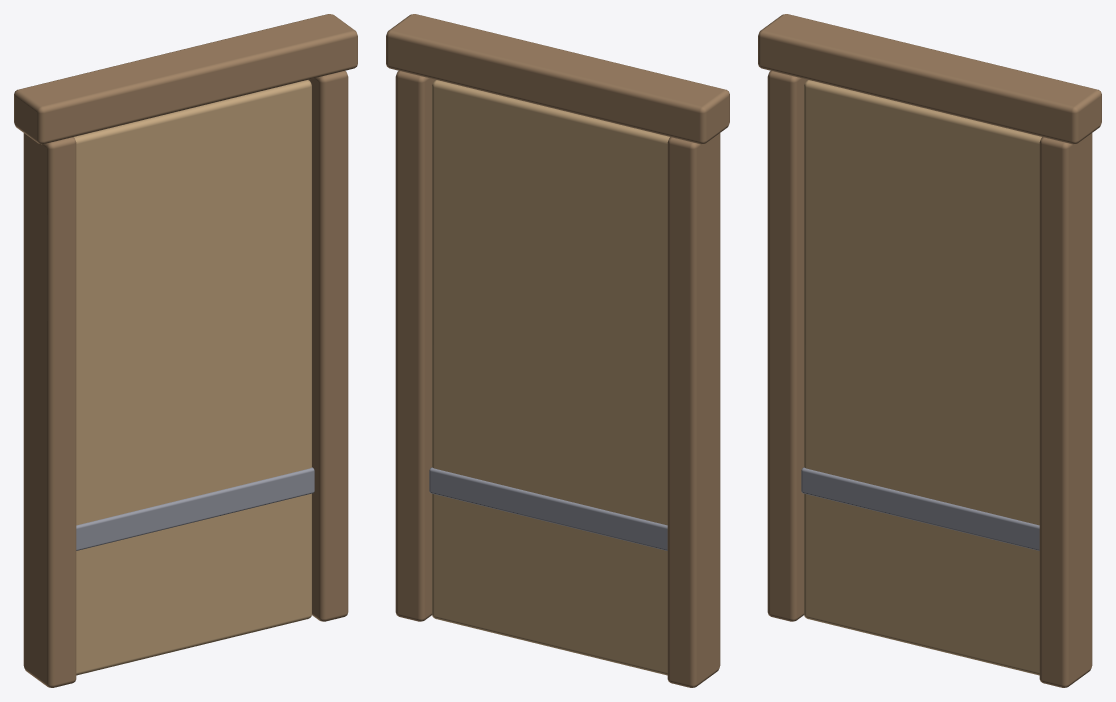
File: door_wall.glb
The picture shows the model from 3 angles, left to right: view 1: azimuth 30°, elevation 25°; view 2: azimuth 150°, elevation 25°; view 3: azimuth 330°, elevation 25°; orthographic projection.
Parts seen in each view (by area): view 1: door_leaf, post_l, lintel, post_r, leaf_band; view 2: door_leaf, post_l, lintel, post_r, leaf_band; view 3: door_leaf, post_r, lintel, post_l, leaf_band.
Boxes of the visible parts, x1,y1,x2,y2 form: door_leaf: (74,80,311,675); post_l: (23,133,76,687); lintel: (14,14,357,144); post_r: (308,71,348,621); leaf_band: (76,467,314,550); door_leaf: (432,80,669,675); post_l: (667,133,720,687); lintel: (386,14,729,144); post_r: (395,71,435,621); leaf_band: (429,467,667,550); door_leaf: (804,80,1041,675); post_r: (1039,133,1092,687); lintel: (758,14,1101,144); post_l: (767,71,807,621); leaf_band: (801,467,1039,550).
Bounding box in the file's own units: 1.32 × 2.3 × 0.2.
